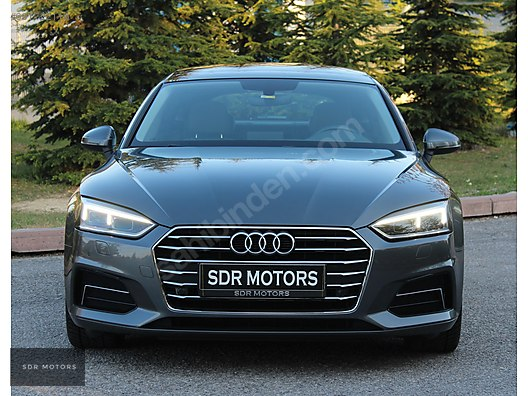audi: (225, 229, 298, 256)
